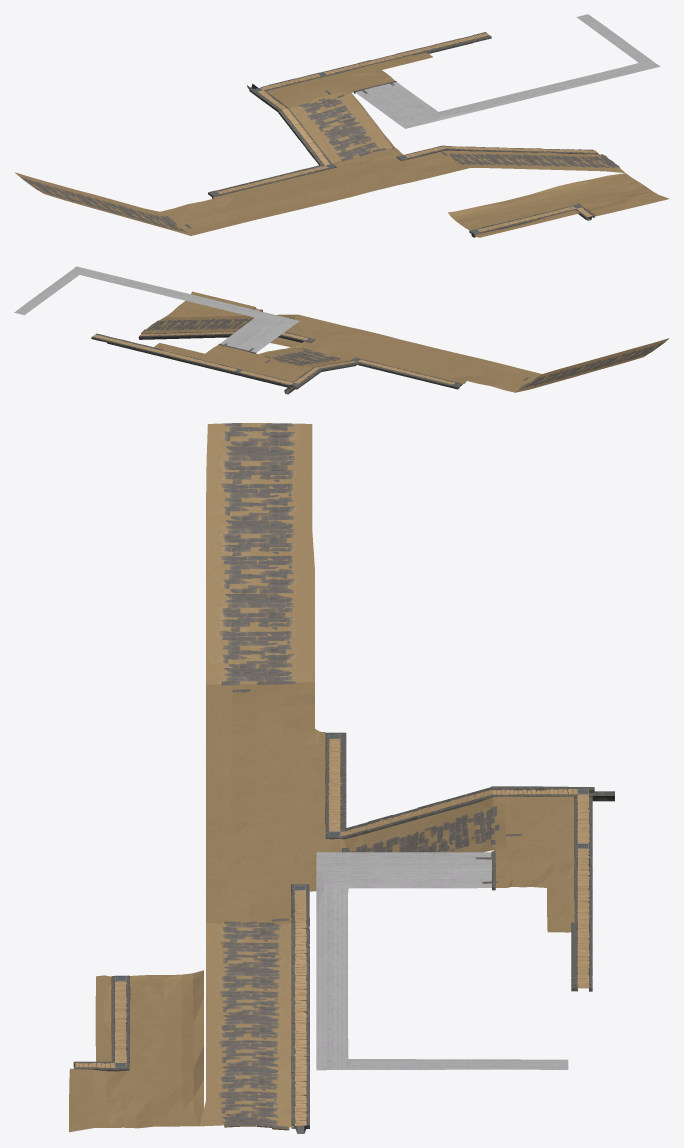
The model's file is SM_ENV_KNVLLG_ground_03.fbx.
3 views of the same model, one above another, from view 1: azimuth 30°, elevation 25°; view 2: azimuth 150°, elevation 25°; view 3: azimuth 270°, elevation 25° (orthographic). The views are drawn at different scales.
Parts seen in each view (by area): view 1: SM_ENV_KNVLLG_ground_03.mo; view 2: SM_ENV_KNVLLG_ground_03.mo; view 3: SM_ENV_KNVLLG_ground_03.mo.
Boxes of the visible parts, x1,y1,x2,y2 form: SM_ENV_KNVLLG_ground_03.mo: (14, 14, 669, 237); SM_ENV_KNVLLG_ground_03.mo: (14, 266, 669, 394); SM_ENV_KNVLLG_ground_03.mo: (69, 423, 614, 1133).
Size of the model in its own units: 23270 by 4225 by 9691.
